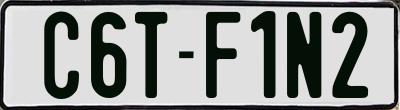1: (249, 8, 276, 99)
2: (332, 9, 374, 101)
6: (88, 11, 123, 99)
C: (44, 8, 85, 100)
F: (206, 11, 241, 101)
N: (285, 9, 322, 98)
T: (134, 10, 166, 97)
